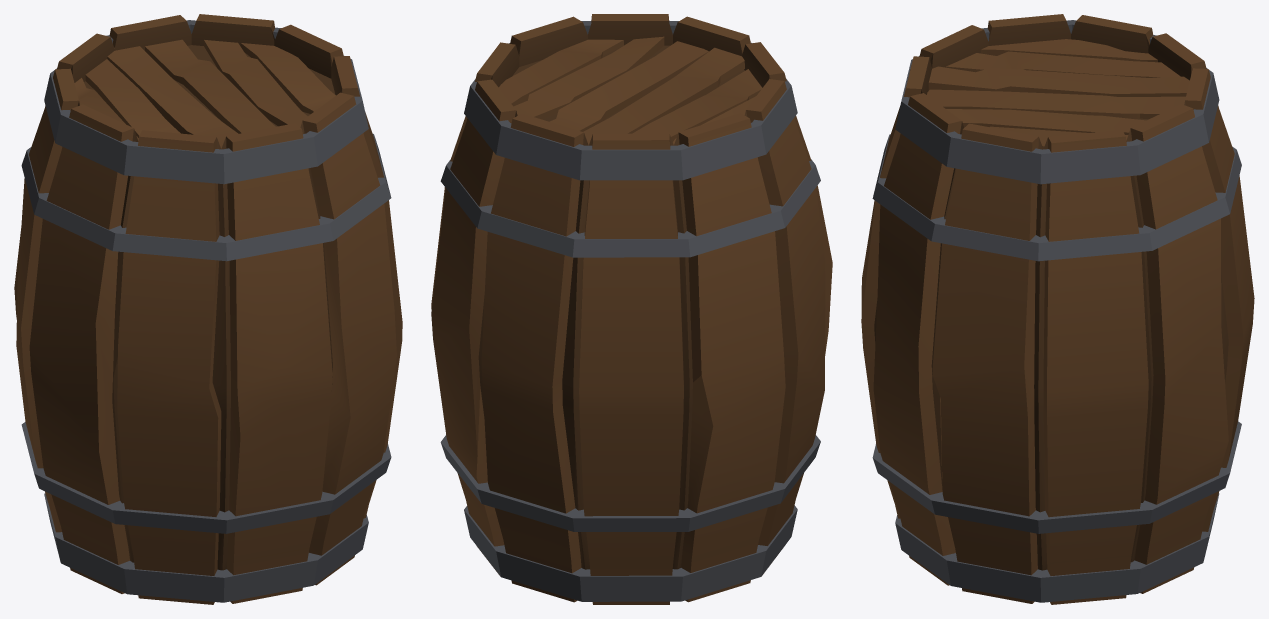
The model's file is b_barrel.glb.
3 renders of one model, left to right at view 1: azimuth 30°, elevation 25°; view 2: azimuth 150°, elevation 25°; view 3: azimuth 270°, elevation 25°, orthographic.
Parts seen in each view (by area): view 1: Barrel; view 2: Barrel; view 3: Barrel.
Part boxes in pixels (bbox=[...]): Barrel: bbox=[14, 14, 402, 604]; Barrel: bbox=[431, 14, 832, 604]; Barrel: bbox=[861, 14, 1254, 604].
Size of the model in its own units: 0.1582 by 0.2043 by 0.1568.
